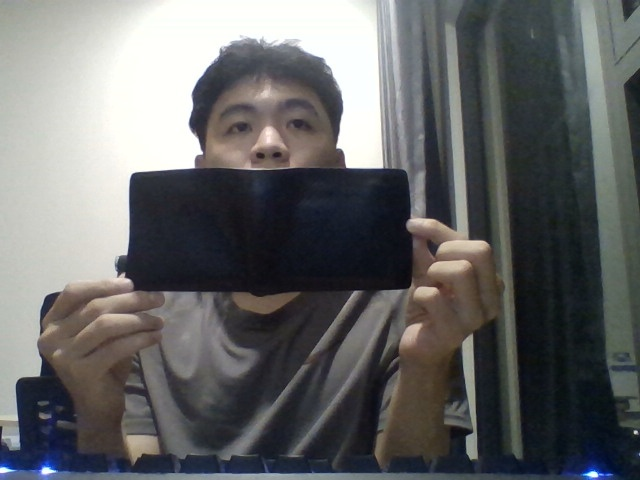wallet: (130, 169, 412, 289)
